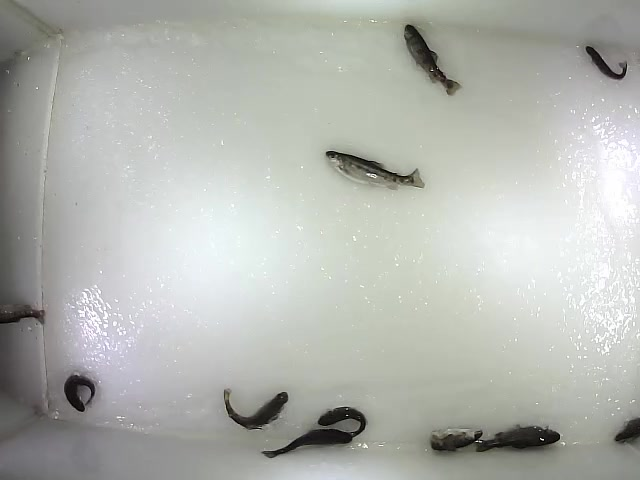fish: (402, 23, 465, 99), (323, 149, 426, 194), (223, 385, 290, 431), (261, 428, 354, 460), (474, 423, 562, 453), (316, 405, 369, 439), (584, 44, 629, 82), (428, 426, 484, 453), (63, 373, 96, 413)
